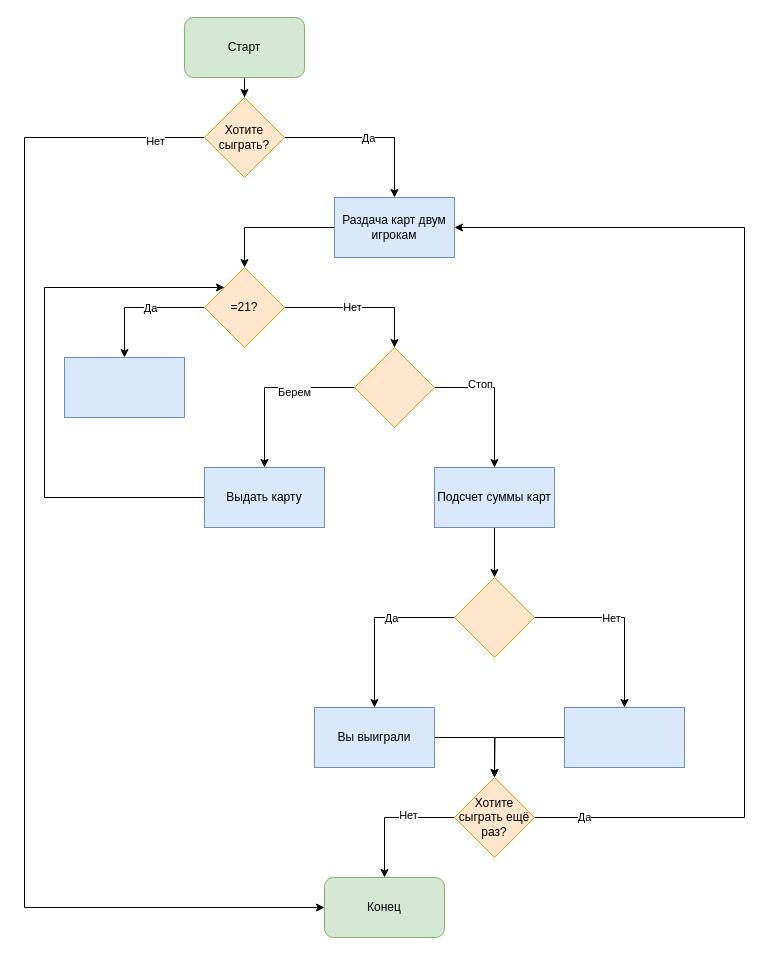
Some shapes in this 770 by 955 pixel diagram are drawn without their labels. Here are the shapes that lost their labels. From the top down, the centre of each, then its label:
(x=124, y=387): Вы выиграли!
(x=394, y=387): Берем/Стоп
(x=494, y=617): > чем у диллера
(x=624, y=737): Вы проиграли
